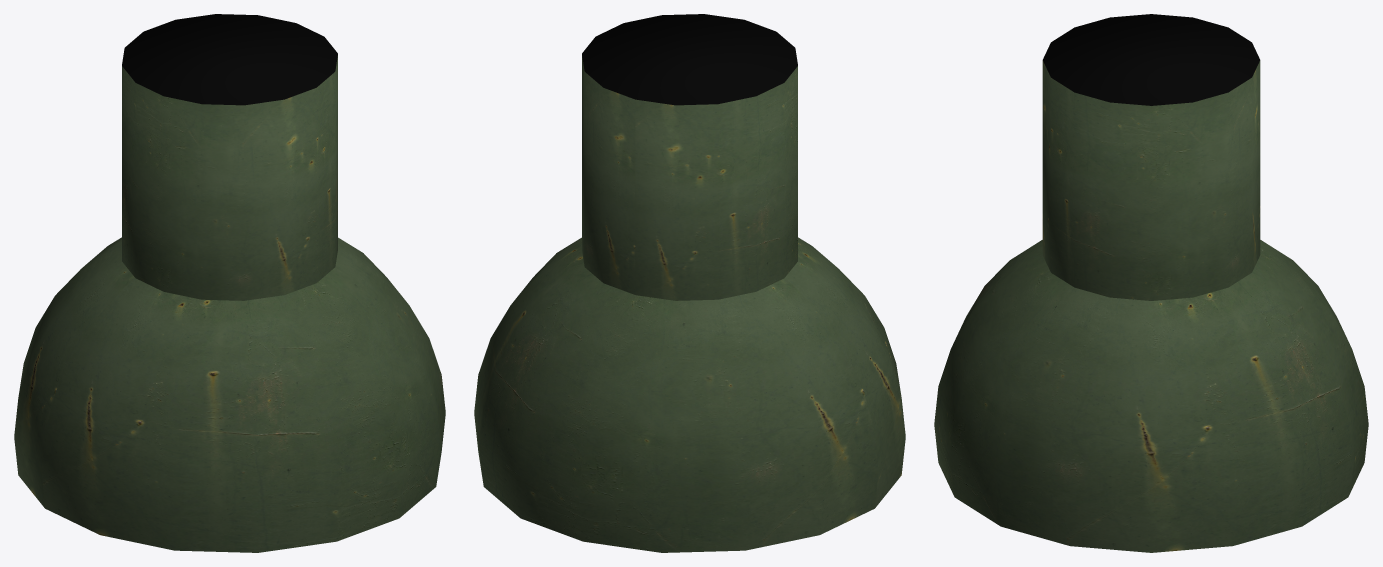
Rendered from threejsLampLowRough.glb.
The picture shows the model from 3 angles, left to right: view 1: azimuth 30°, elevation 25°; view 2: azimuth 150°, elevation 25°; view 3: azimuth 270°, elevation 25°; orthographic projection.
Parts seen in each view (by area): view 1: lampBottom, lampTop; view 2: lampBottom, lampTop; view 3: lampBottom, lampTop.
Boxes of the visible parts, x1,y1,x2,y2 form: lampBottom: (14, 237, 445, 552); lampTop: (122, 14, 337, 300); lampBottom: (474, 237, 905, 552); lampTop: (582, 14, 797, 300); lampBottom: (934, 240, 1368, 552); lampTop: (1042, 14, 1260, 300).
Size of the model in its own units: 2.85 by 2.91 by 2.85.
Materials: 2 (1 with a texture image).
